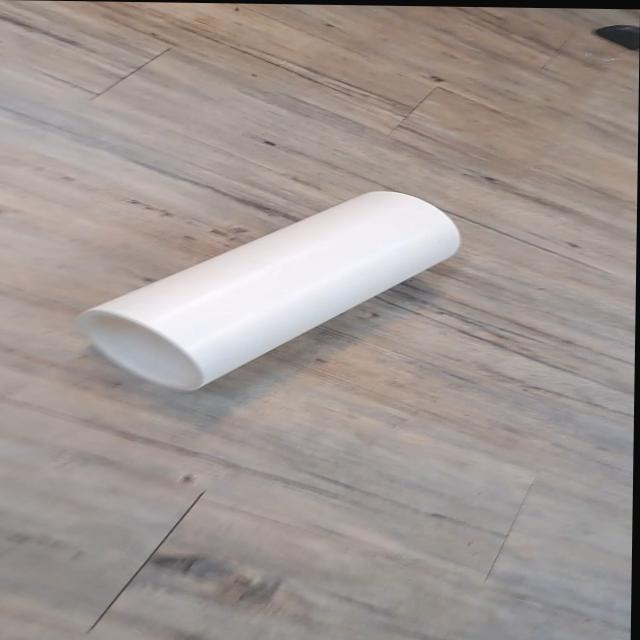CORAL: (66, 173, 475, 405)
